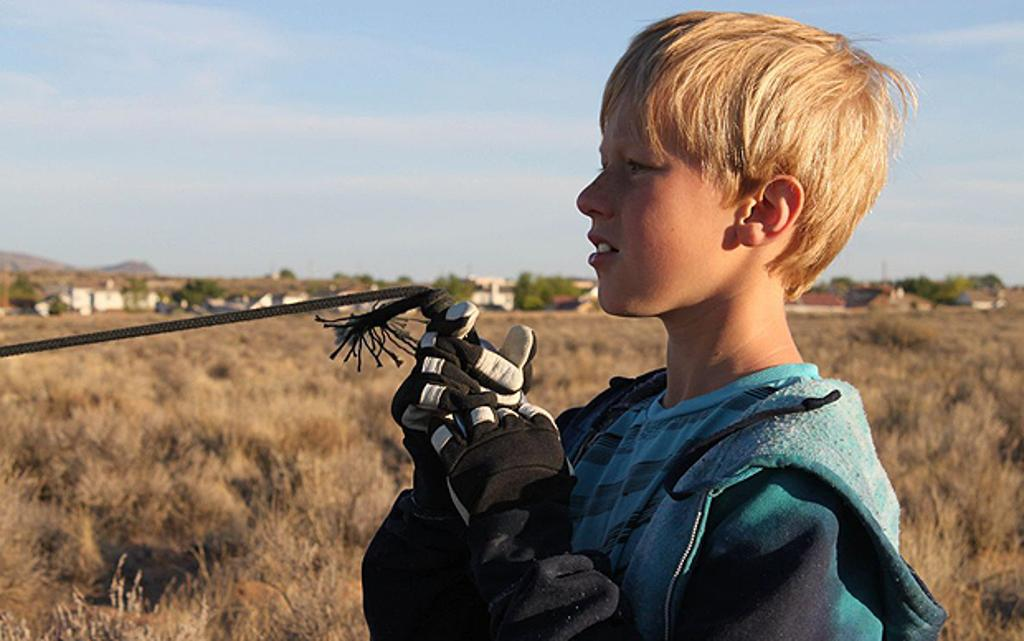face: (579, 81, 745, 317)
